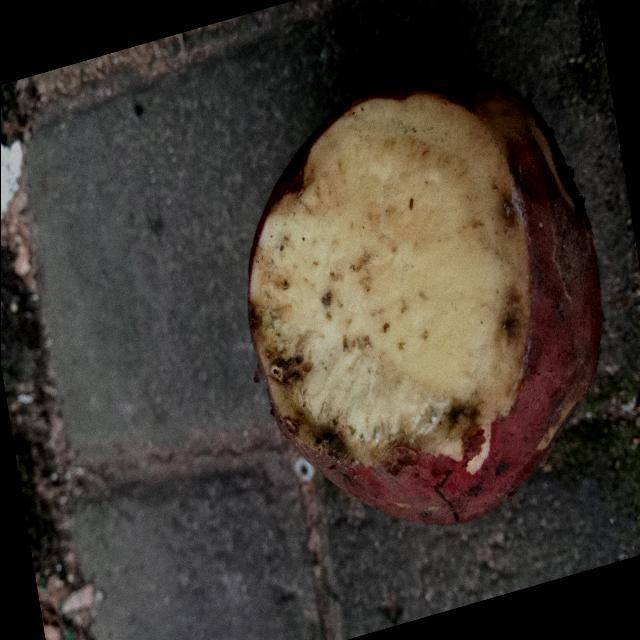Sick Sweet Potato_Tuber Rot: (249, 93, 529, 465)
